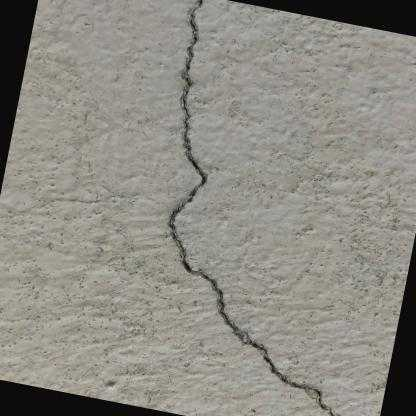crack: (167, 0, 335, 416)
